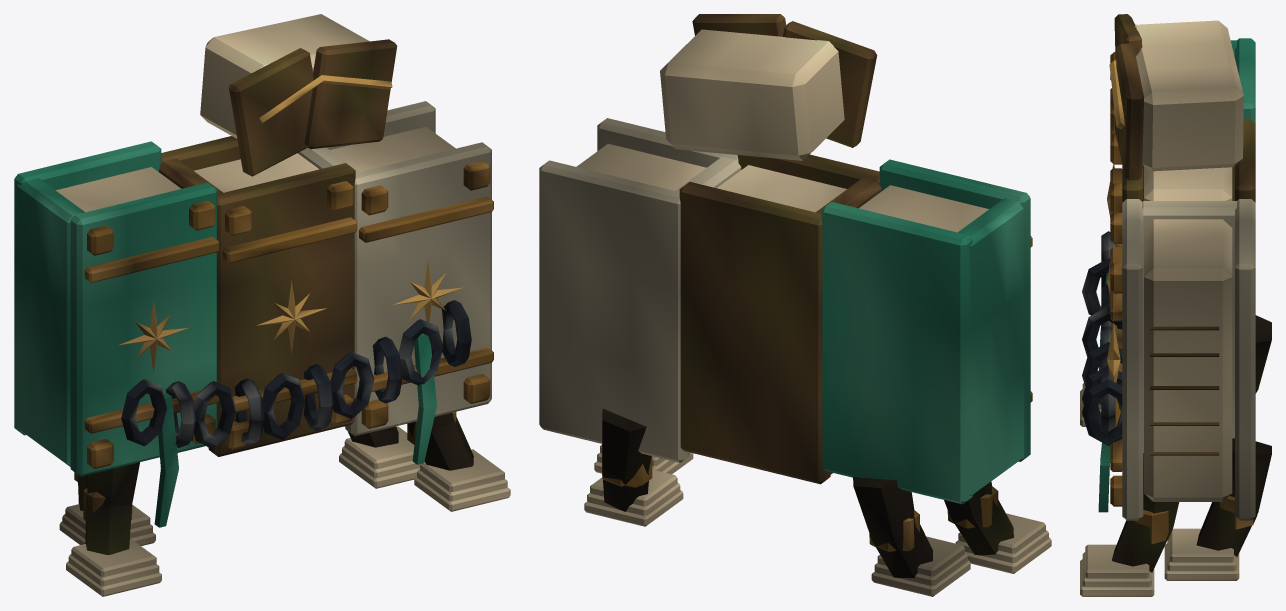
The model's file is endless_library.fbx.
3 renders of one model, left to right at view 1: azimuth 30°, elevation 25°; view 2: azimuth 150°, elevation 25°; view 3: azimuth 270°, elevation 25°, orthographic. The views are drawn at different scales.
Visible parts, largest first — view 1: endless_library; view 2: endless_library; view 3: endless_library.
Boxes of the visible parts, box(x1,y1,x2,y2) form: endless_library: box(14, 14, 510, 596); endless_library: box(539, 14, 1051, 596); endless_library: box(1080, 14, 1271, 596).
Bounding box in the file's own units: 2.78 × 3.02 × 1.11.
